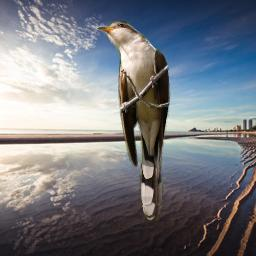Cuckoo: (96, 21, 171, 222)
